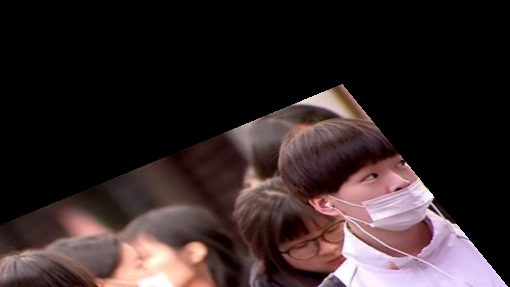mask_weared_incorrect: (274, 106, 443, 251)
